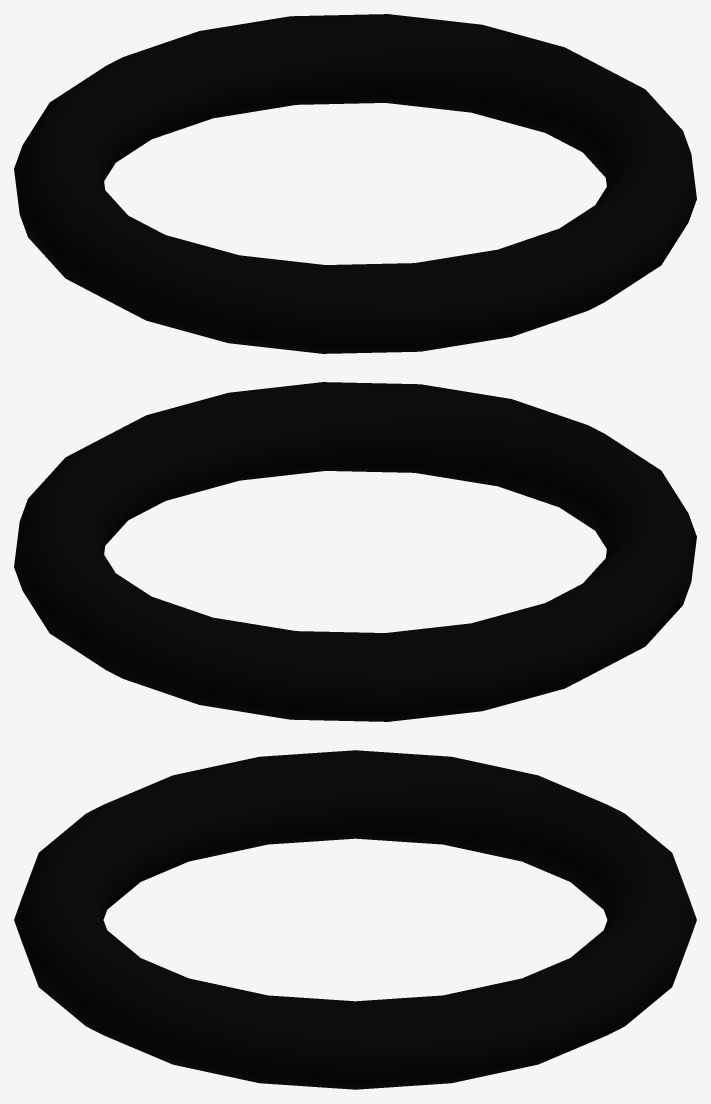
File: 0323_huoqiuyuanhuan.glb
3 renders of one model, top to bottom at view 1: azimuth 30°, elevation 25°; view 2: azimuth 150°, elevation 25°; view 3: azimuth 270°, elevation 25°, orthographic.
Size of the model in its own units: 2.2 by 0.2729 by 2.2.
Materials: 1 (1 with a texture image).
